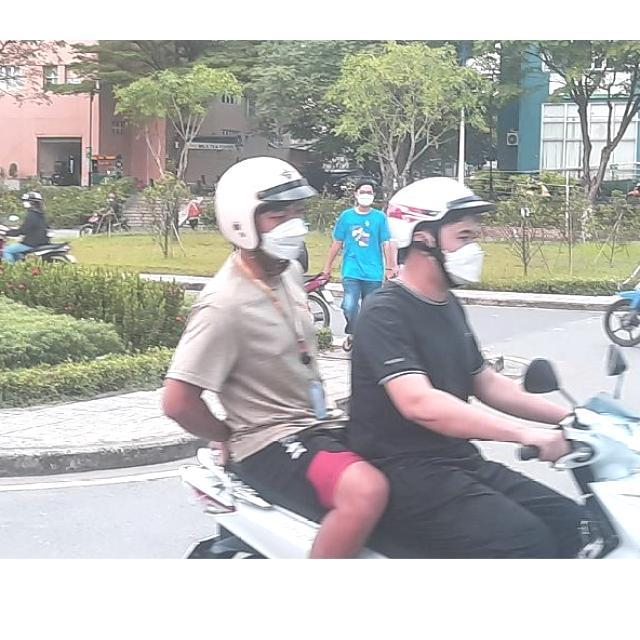Helmet: (388, 178, 492, 296), (212, 157, 312, 258)
